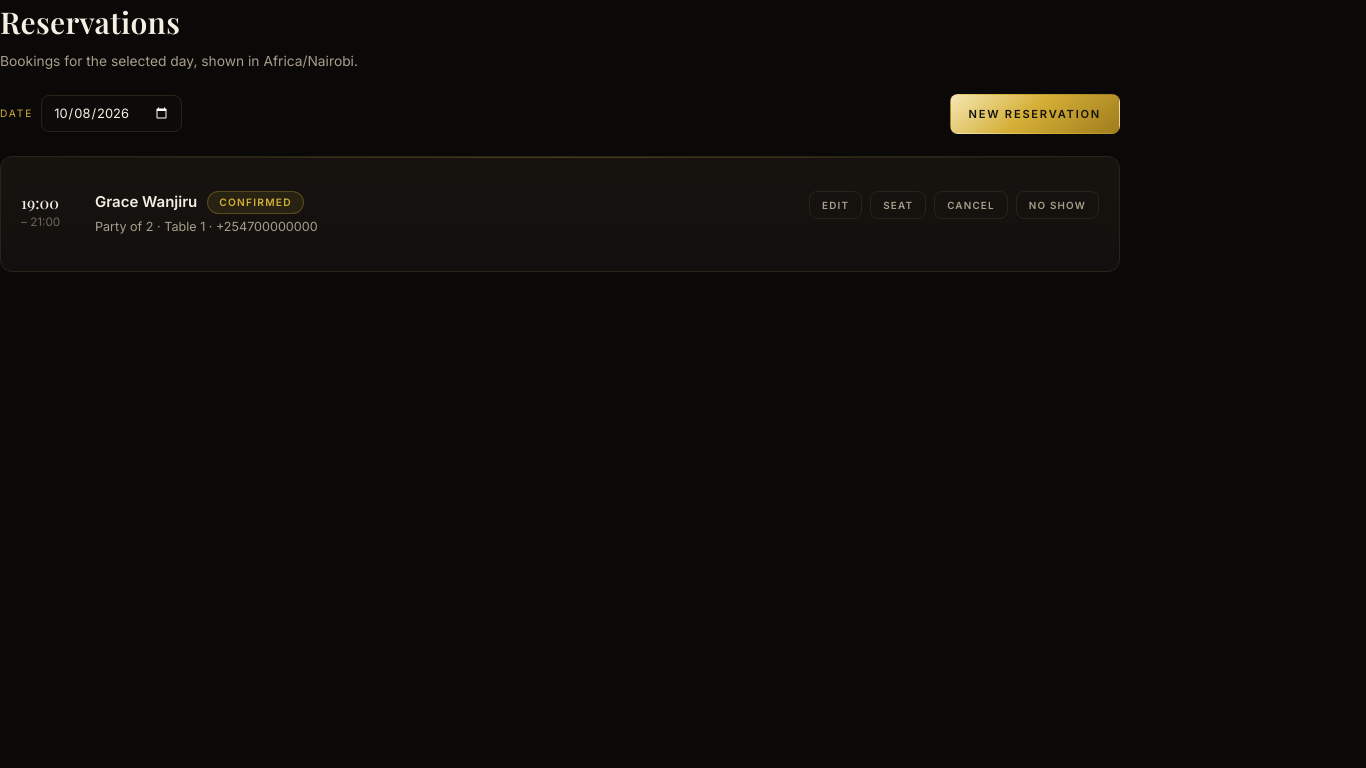
Scenario: reservation editing › creates a reservation through the modal after a conflict pre-check
The width and height of the screenshot is (1366, 768).
expect the text "Grace Wanjiru" is shown: met, box [95,191,197,214]
Click the button "New reservation": (1035, 114) [950,94,1120,134]
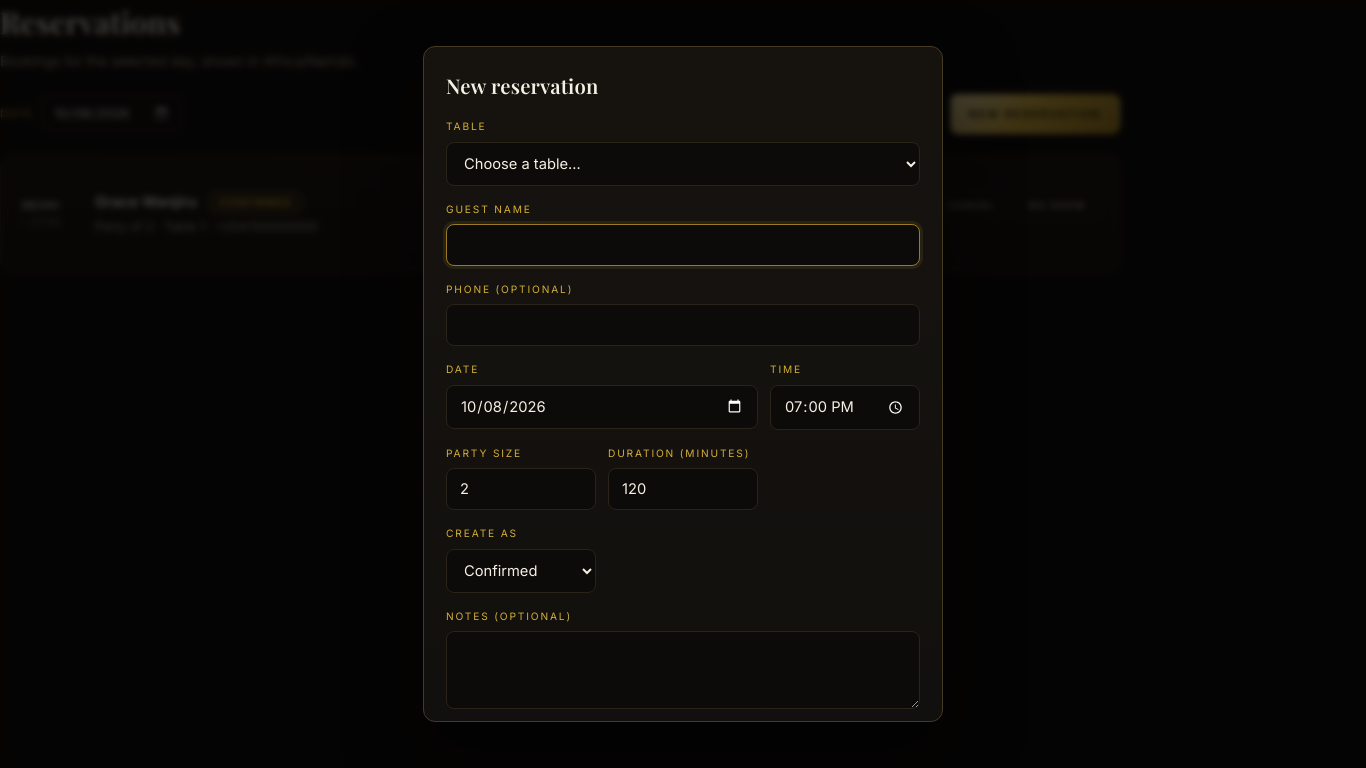
expect the heading "New reservation" is shown: met, box [446,72,598,99]
In the date field labelled "Date": (602, 407) [446,385,758,429], type "2026-12-31"
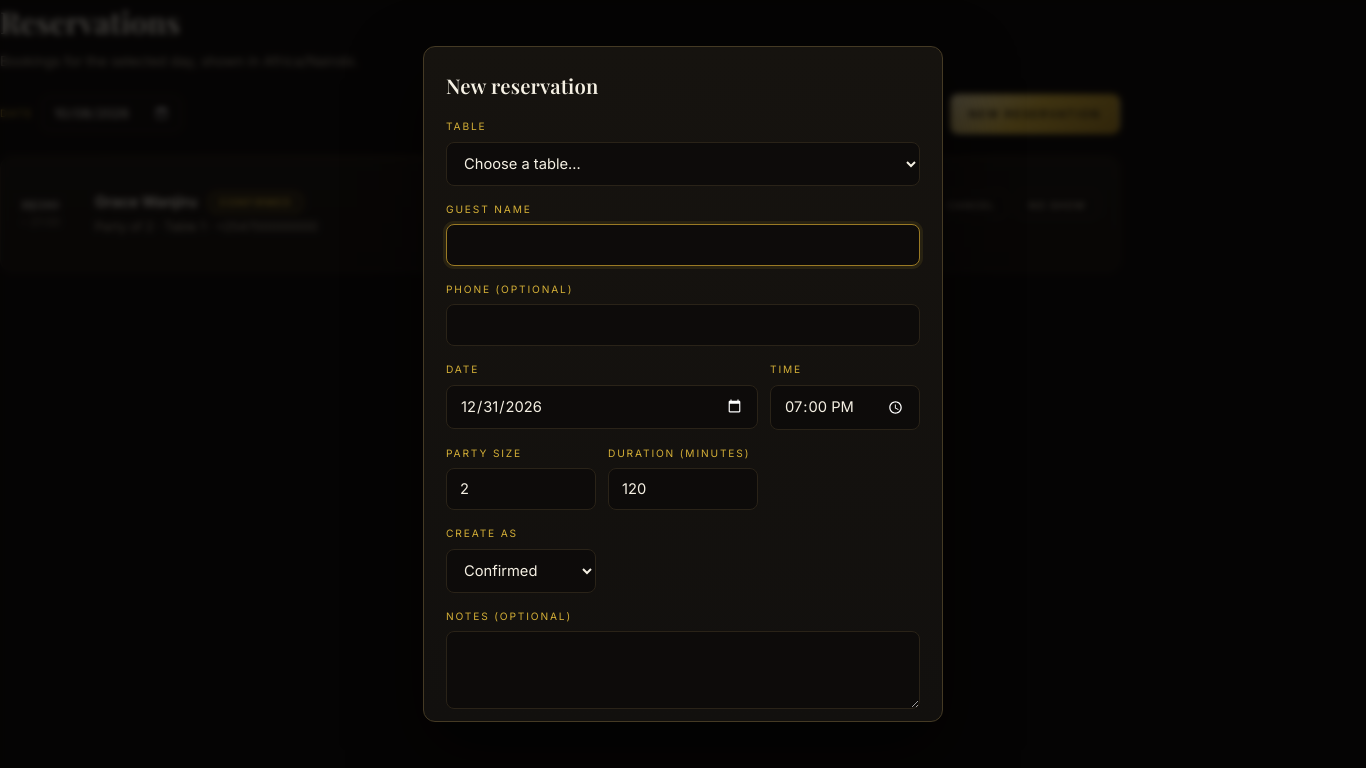
Select "Table 1 · Main · 4 seats" in the dropdown labelled "Table": (683, 164) [446,142,920,186]
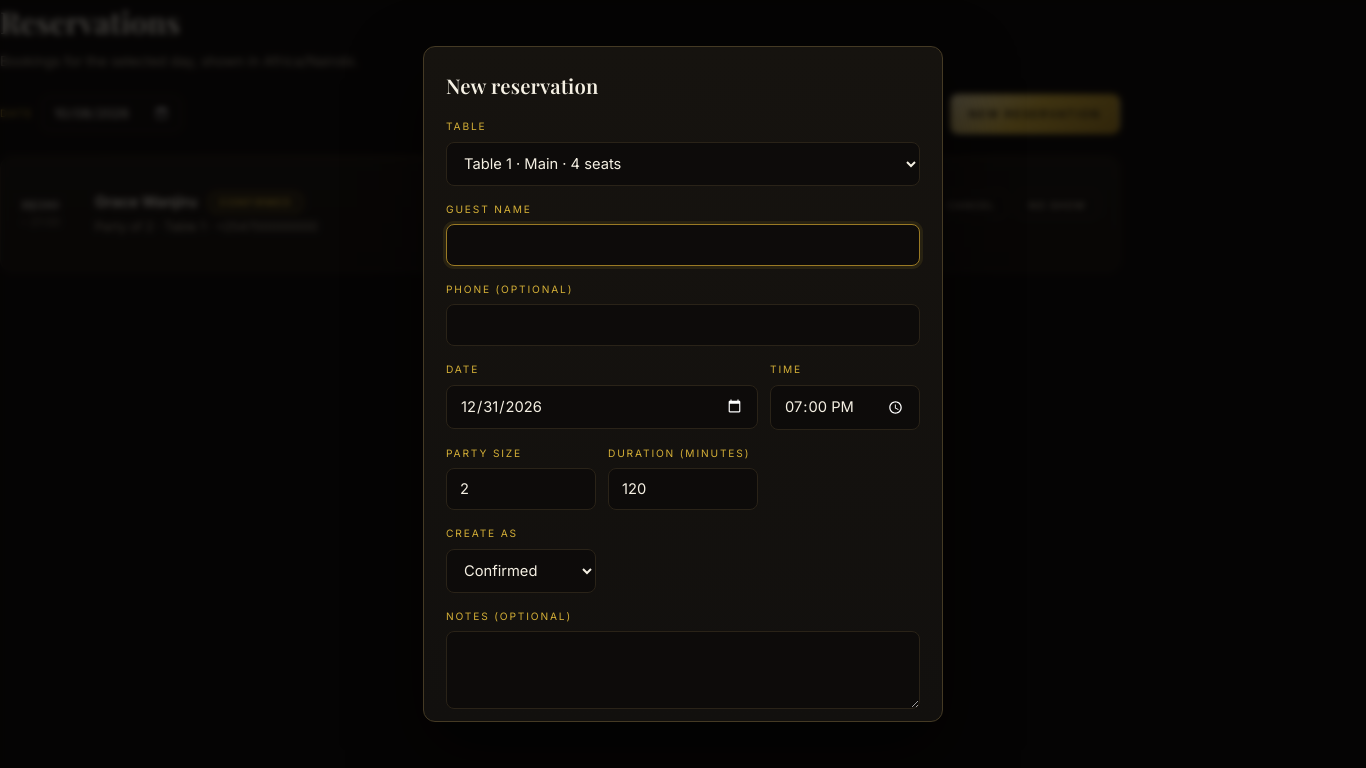
In the field labelled "Guest name": (683, 245) [446,224,920,266], type "Amina Yusuf"
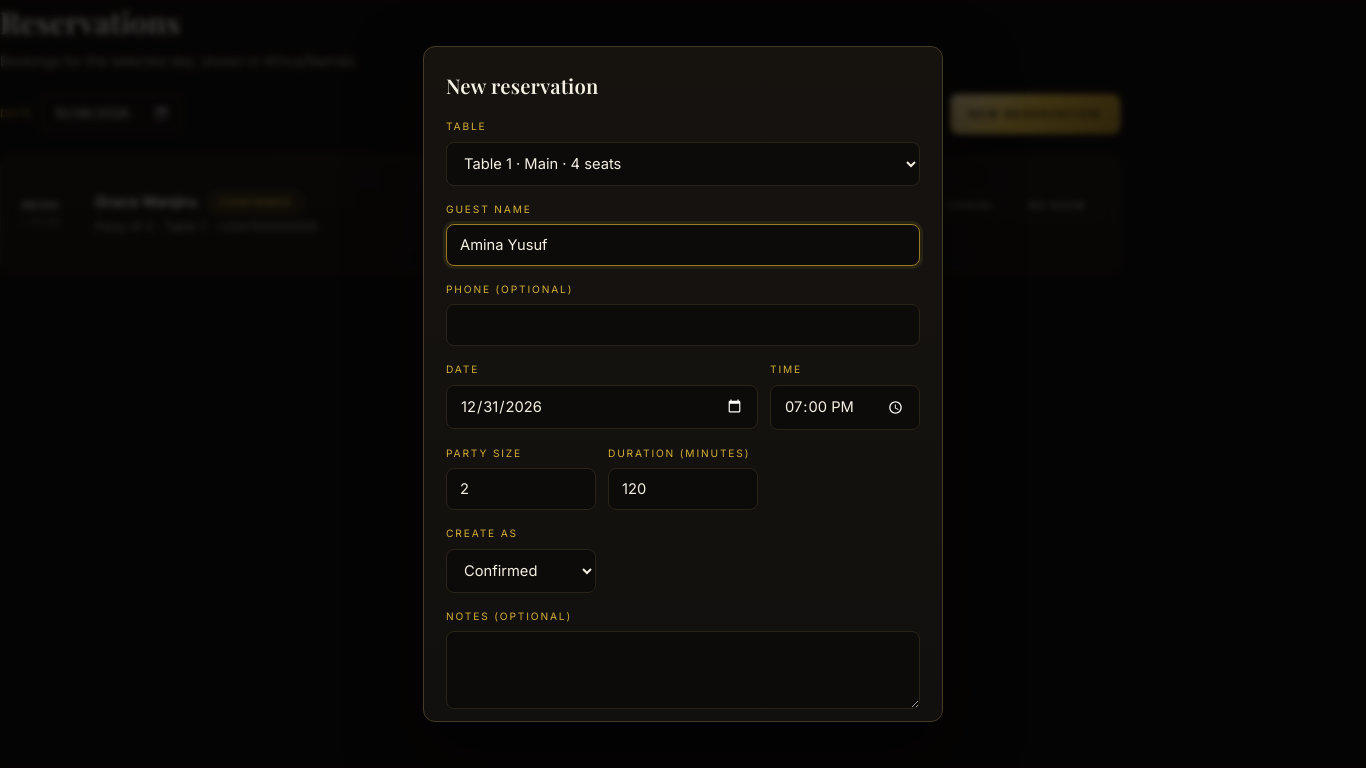
Submit the form, box [446,120,920,765]
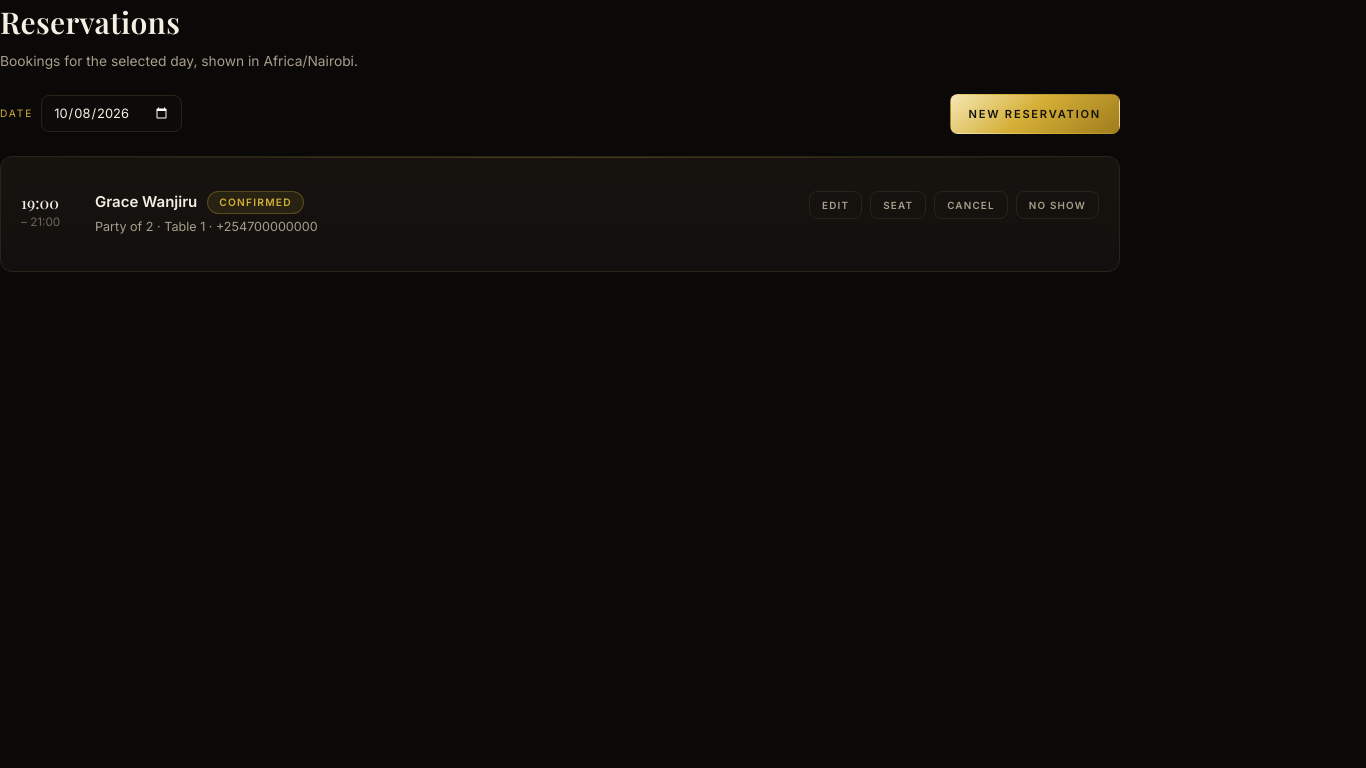
expect the dialog is gone: met
